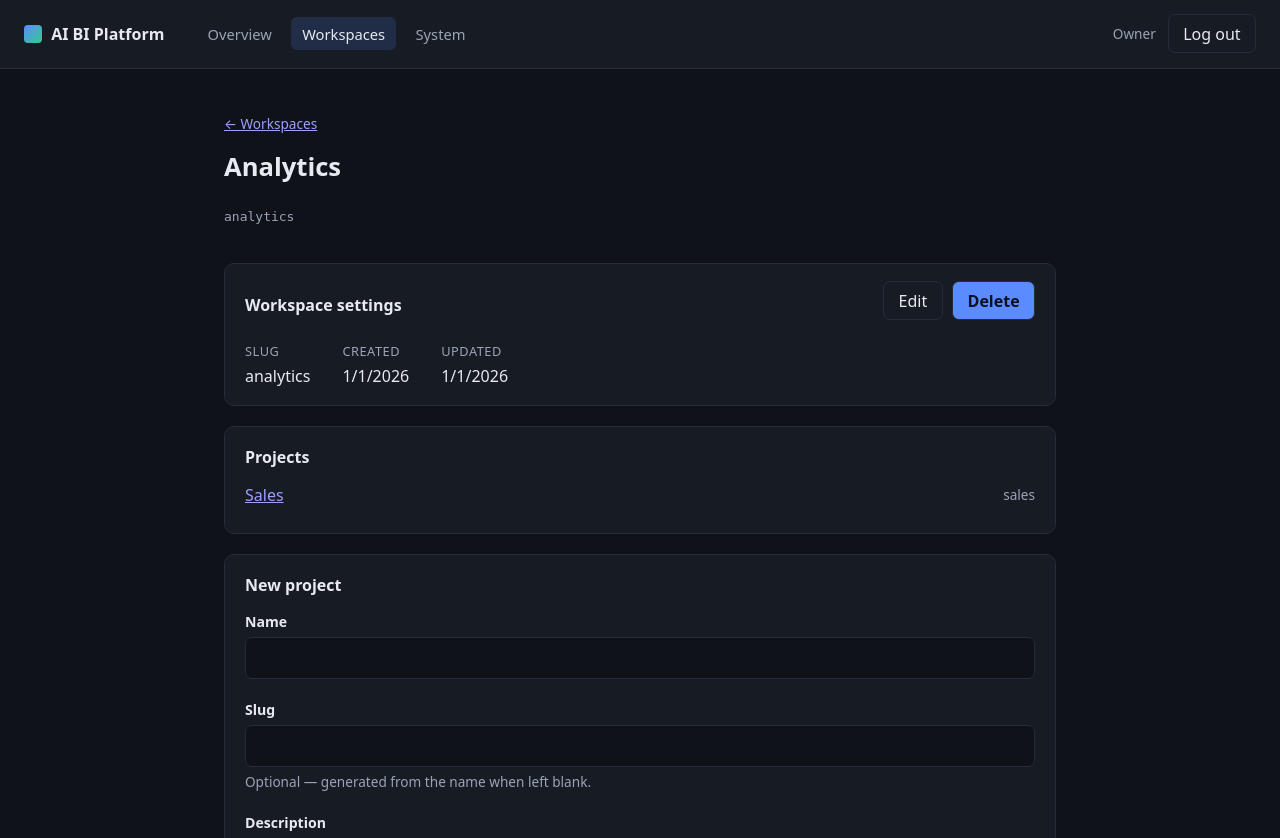
WorkspaceDetailPage › deletes the workspace and returns to the list
Check: the heading "Analytics" is shown, box [224,149,341,184]
Click the button "Delete".
click(994, 300)  # box [952,281,1035,320]
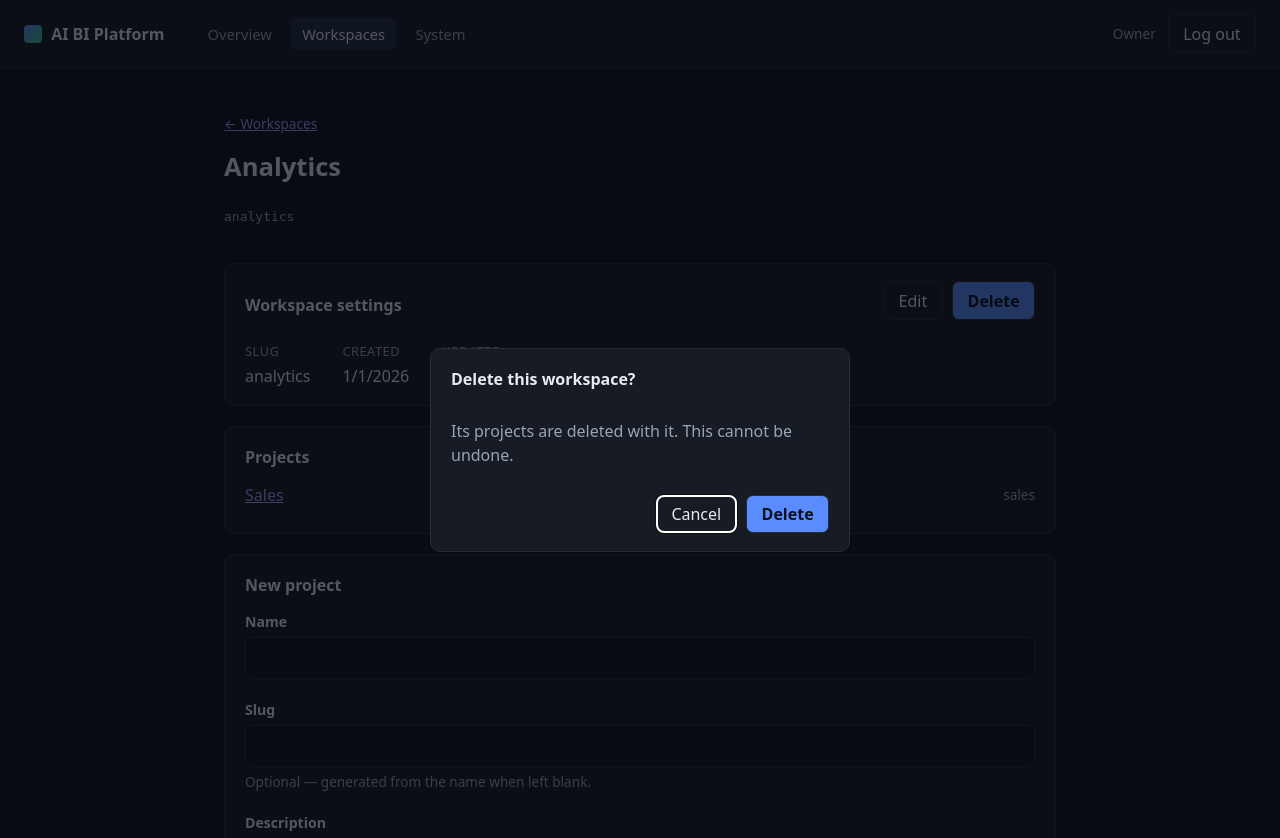
Click the button "Delete".
click(788, 514)  # box [746,495,829,533]
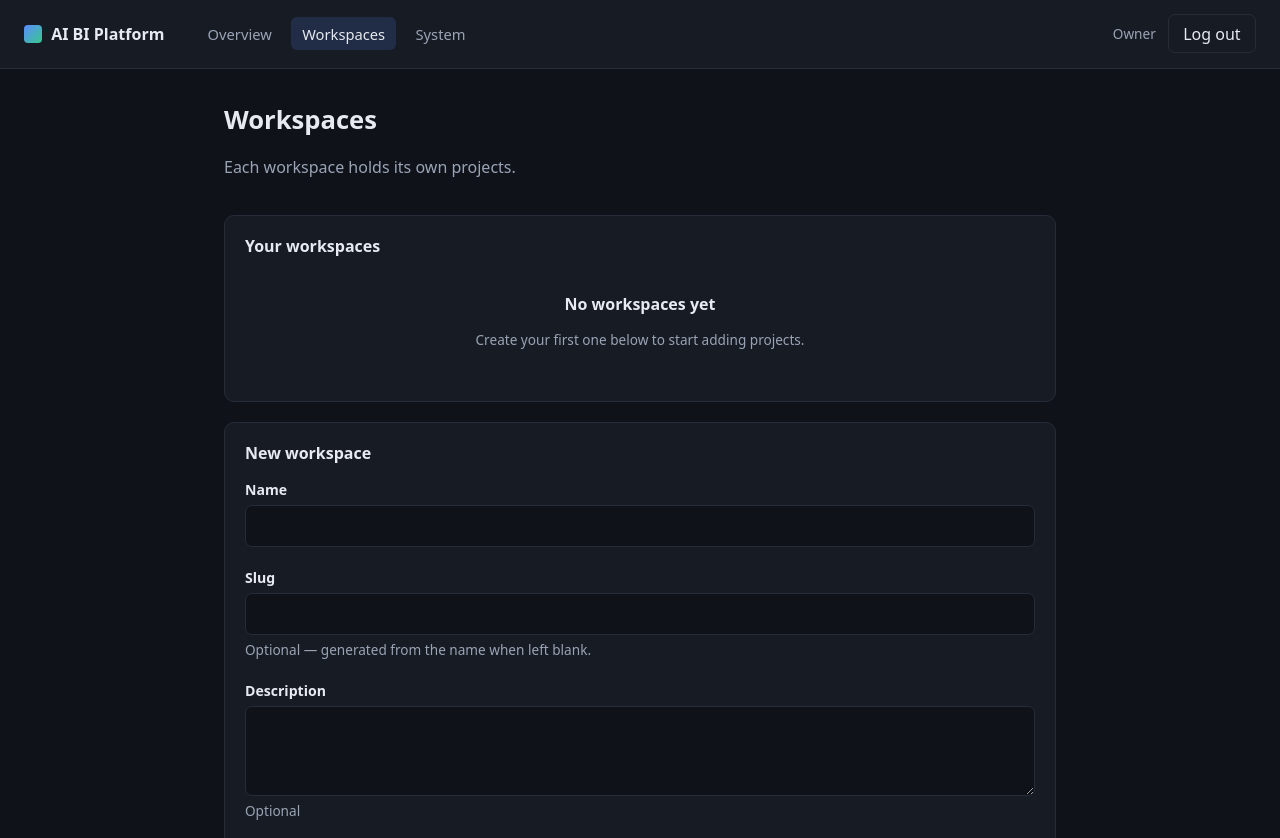
Check: the heading "Workspaces" is shown, box [224,102,377,137]
